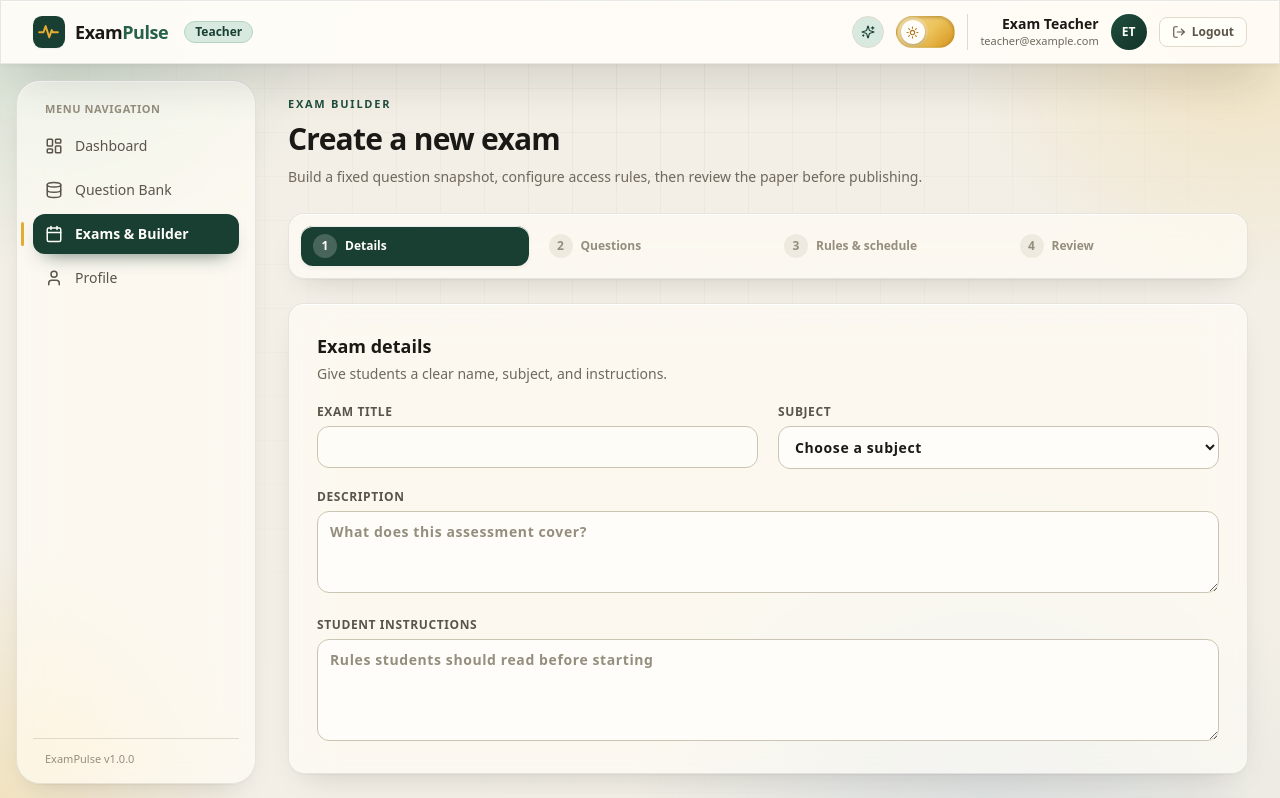
it: rejects invalid question marks before leaving the questions step
Type "Database Quiz" into the field labelled "Exam title" at (538, 446), box [317,426,758,468]
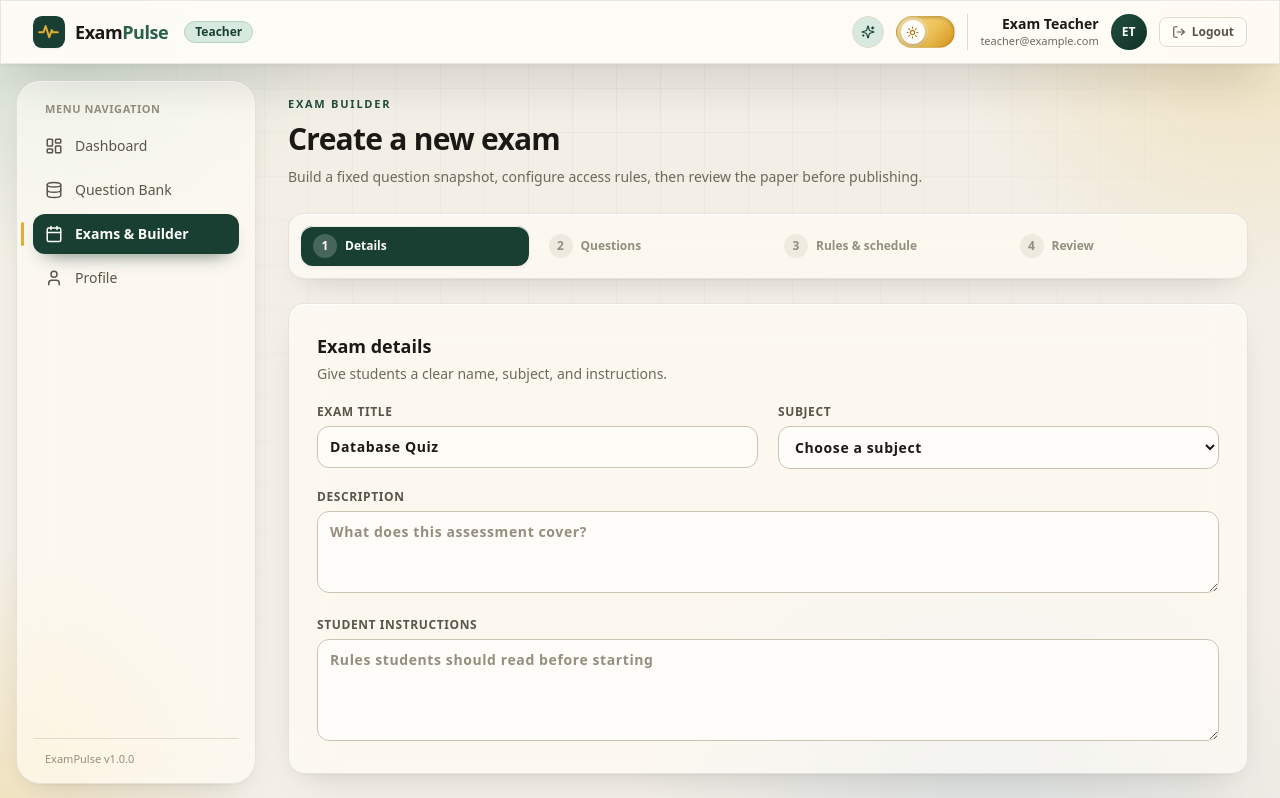
Select "CS301 · DBMS" in the dropdown labelled "Subject" at (998, 447), box [778,426,1219,468]
(page scrolled)
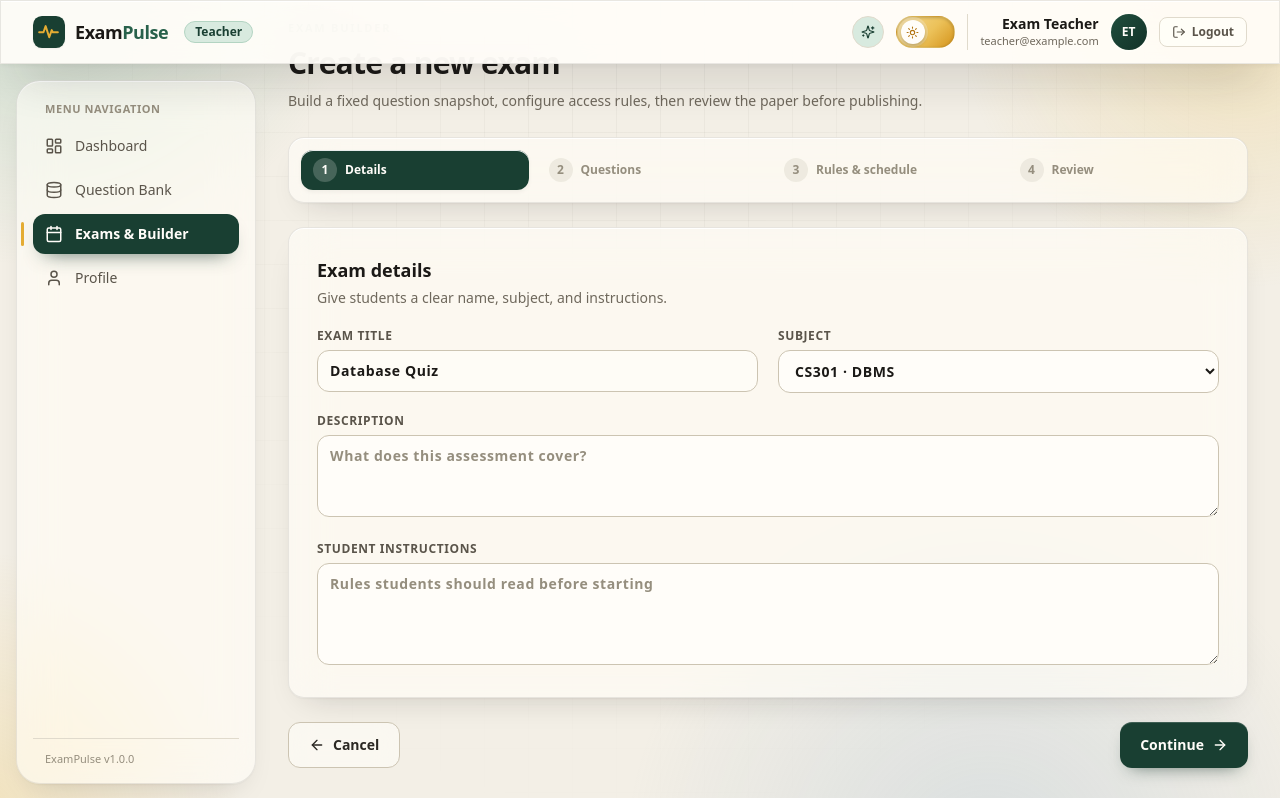
Click the button "Continue" at (1184, 744), box [1120,722,1248,768]
(page scrolled)
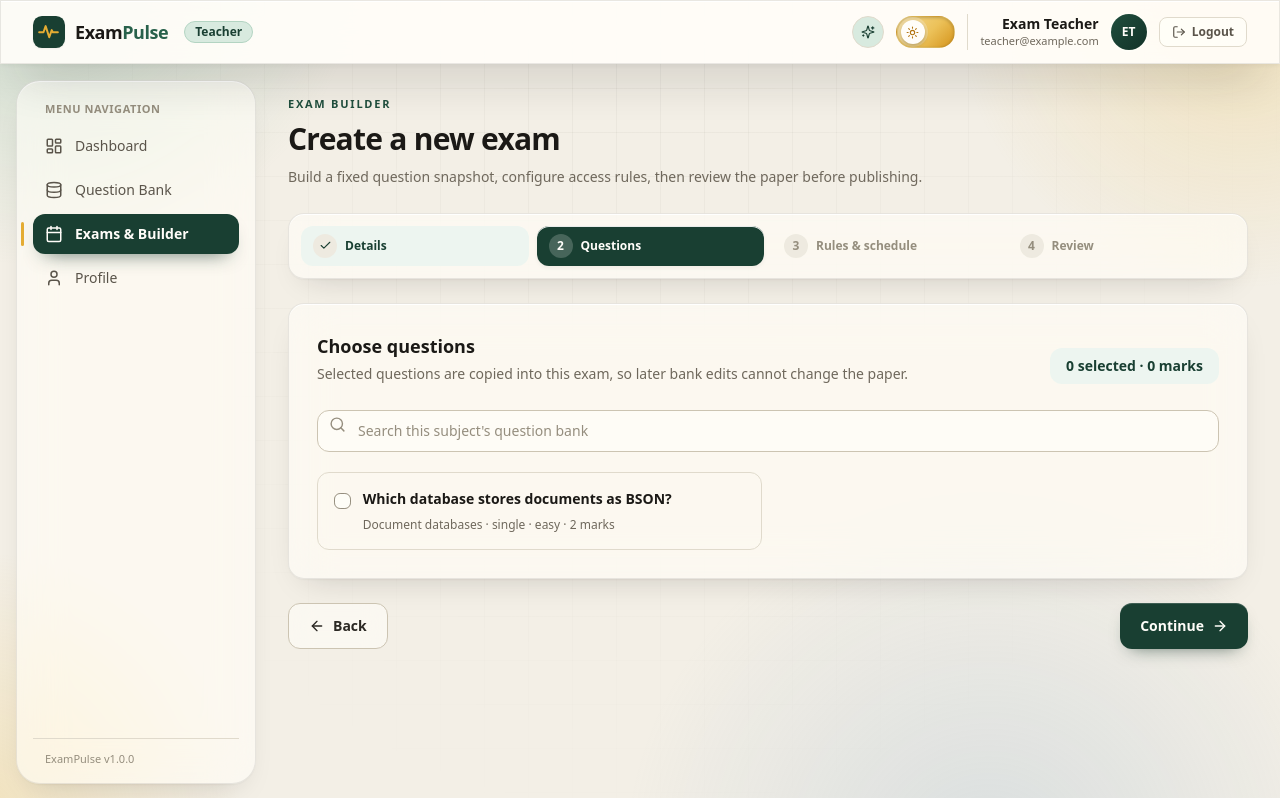
Click the checkbox labelled "Which database stores documents as BSON" at (342, 501), box [334,492,351,509]
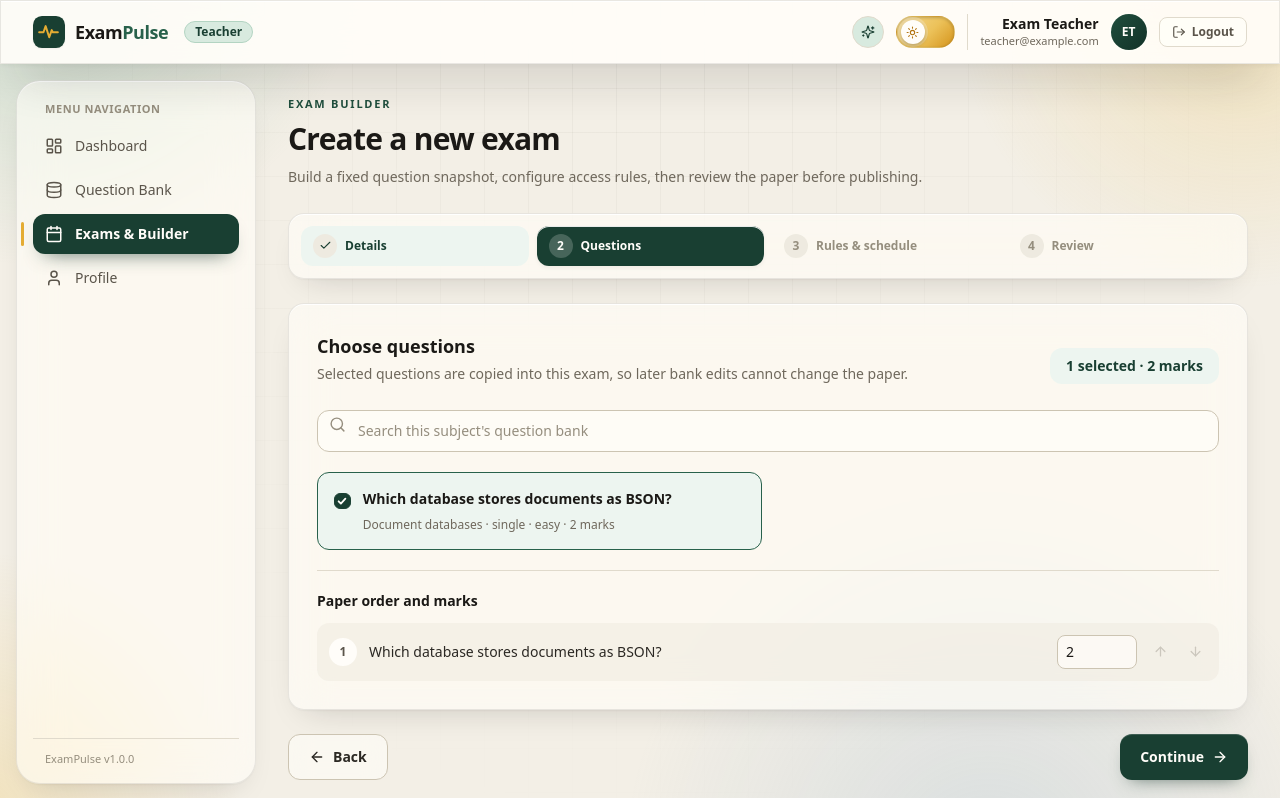
Replace the text in the number field named "Marks for question 1" with "0" at (1097, 652), box [1057,634,1137,668]
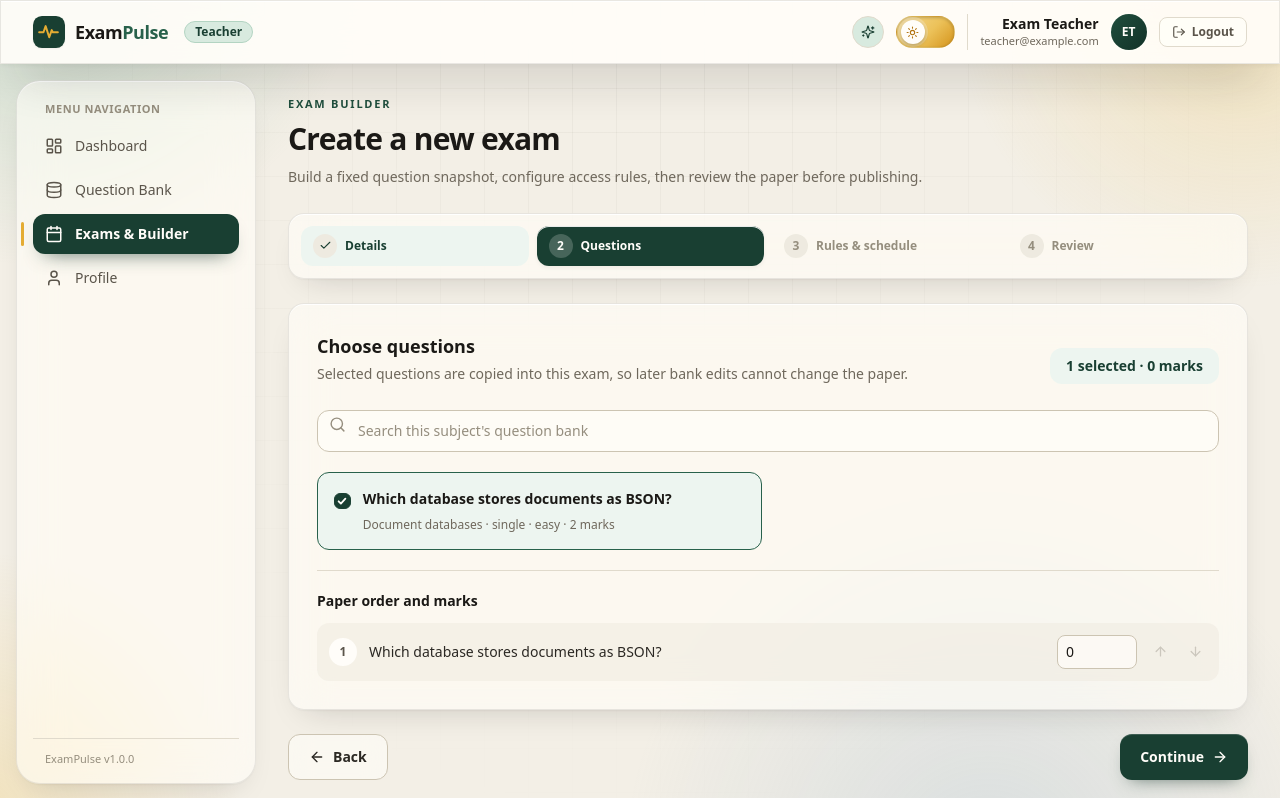
Click the button "Continue" at (1184, 756), box [1120,734,1248,780]
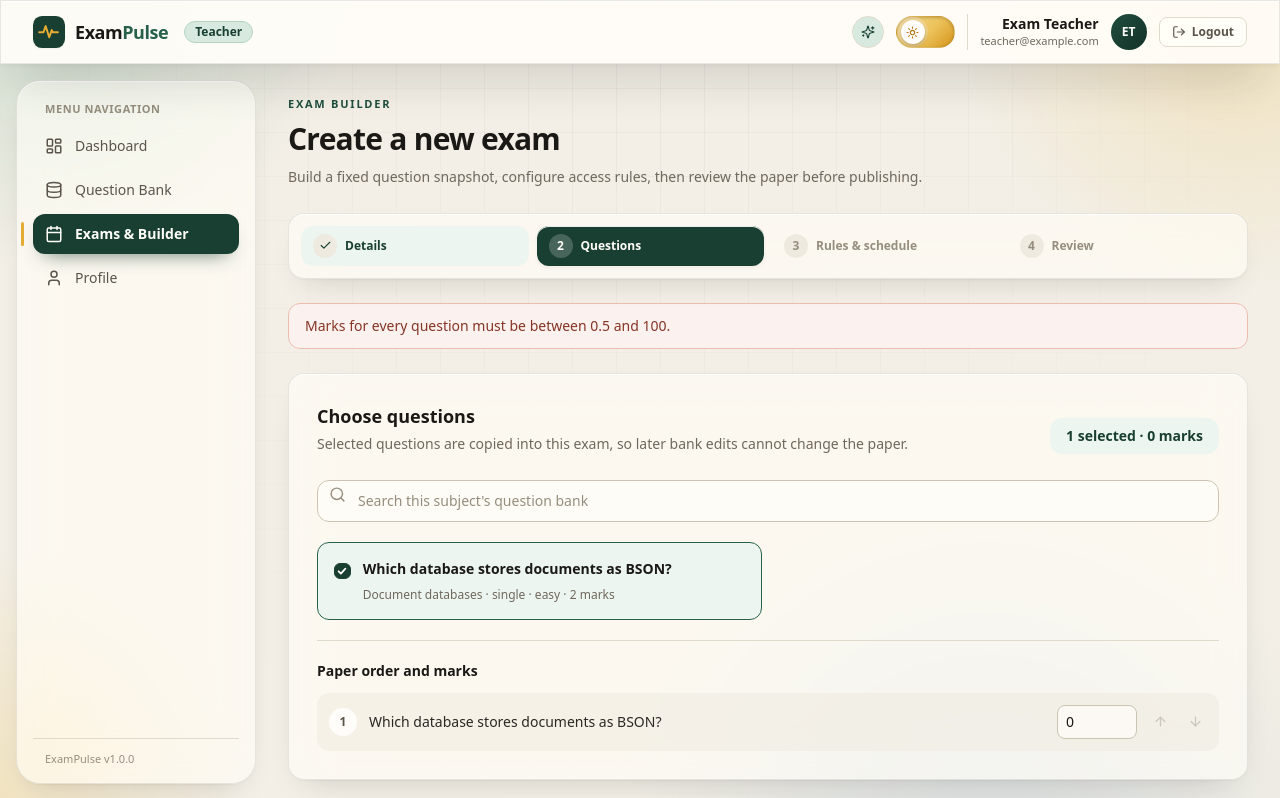
Expected: the heading "Choose questions" is shown, [317,404,475,428]
Expected: the message reads "Marks for every question must be between 0.5 and 100.", [305,316,670,334]
